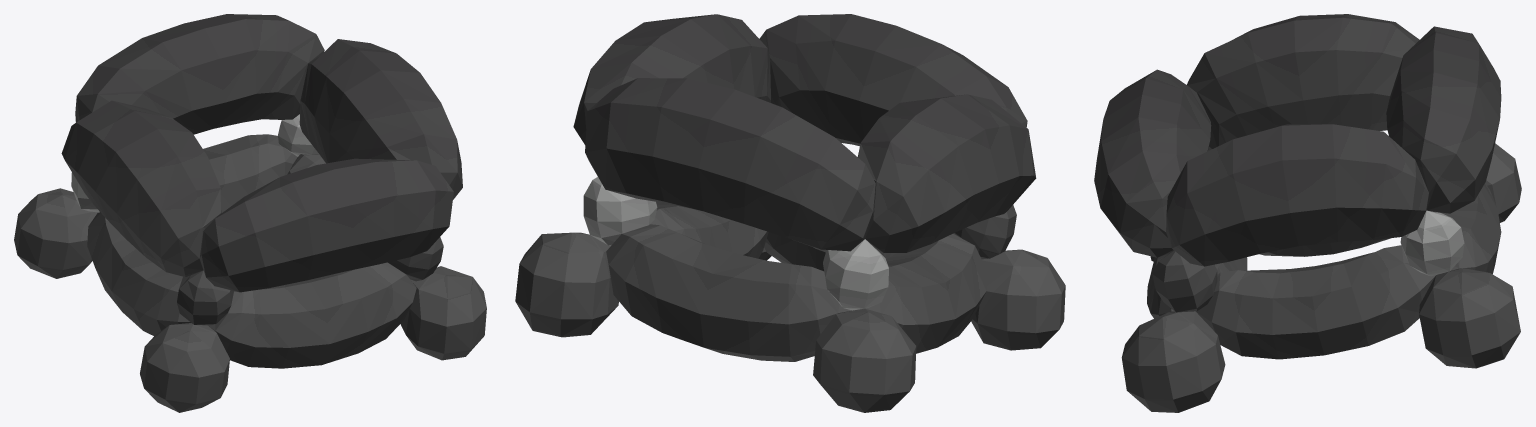
File: CharSkyKid_Horn_BalloonCrab.glb
3 views of the same model, side by side, from view 1: azimuth 30°, elevation 25°; view 2: azimuth 150°, elevation 25°; view 3: azimuth 270°, elevation 25° (orthographic). The views are drawn at different scales.
Parts seen in each view (by area): view 1: CharSkyKid_Horn_BalloonCrab; view 2: CharSkyKid_Horn_BalloonCrab; view 3: CharSkyKid_Horn_BalloonCrab.
Boxes of the visible parts, x1=… form: CharSkyKid_Horn_BalloonCrab: x1=14, y1=14, x2=486, y2=412; CharSkyKid_Horn_BalloonCrab: x1=515, y1=14, x2=1065, y2=412; CharSkyKid_Horn_BalloonCrab: x1=1094, y1=14, x2=1521, y2=412.
Bounding box in the file's own units: 3.41 × 2.64 × 3.48.
1 material, 1 textured.
